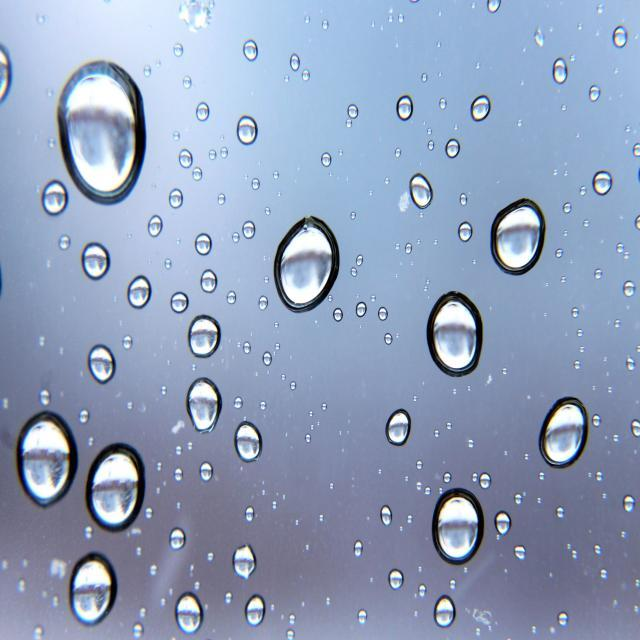raindrop: (48, 52, 148, 218), (80, 430, 150, 553), (9, 400, 81, 516), (268, 204, 340, 315), (424, 284, 486, 388), (484, 189, 554, 279), (425, 480, 486, 570), (534, 390, 596, 478), (66, 544, 122, 638), (181, 368, 221, 442), (75, 230, 113, 290), (184, 308, 225, 363), (230, 411, 268, 468), (381, 396, 414, 456), (170, 586, 206, 640), (84, 337, 121, 389), (38, 172, 72, 225), (121, 267, 156, 316), (228, 537, 260, 585), (233, 108, 262, 157), (432, 584, 458, 636), (406, 170, 436, 210), (240, 590, 270, 630), (468, 90, 500, 126), (586, 161, 614, 202), (192, 231, 221, 265), (197, 258, 220, 300), (142, 208, 168, 242), (163, 522, 189, 556), (166, 286, 193, 318), (386, 562, 408, 600), (394, 87, 416, 124), (610, 18, 632, 54), (552, 52, 572, 90), (288, 54, 312, 84), (494, 505, 515, 539), (166, 187, 190, 216), (192, 95, 215, 124), (348, 296, 371, 325), (196, 456, 218, 486), (176, 146, 197, 177), (456, 216, 476, 248), (239, 37, 261, 66), (239, 216, 260, 246), (378, 499, 394, 537), (444, 136, 464, 164), (618, 491, 638, 518), (244, 502, 262, 530), (511, 540, 528, 568), (348, 538, 366, 564), (346, 98, 362, 127), (588, 79, 604, 108), (476, 470, 496, 493), (622, 276, 638, 303), (558, 604, 573, 632), (256, 290, 272, 316), (376, 302, 393, 326), (241, 337, 257, 359), (624, 353, 638, 378), (321, 148, 334, 174), (486, 0, 503, 19), (174, 462, 186, 487), (630, 414, 640, 444), (459, 188, 470, 212), (262, 350, 275, 370), (630, 138, 640, 161), (226, 286, 237, 306)
